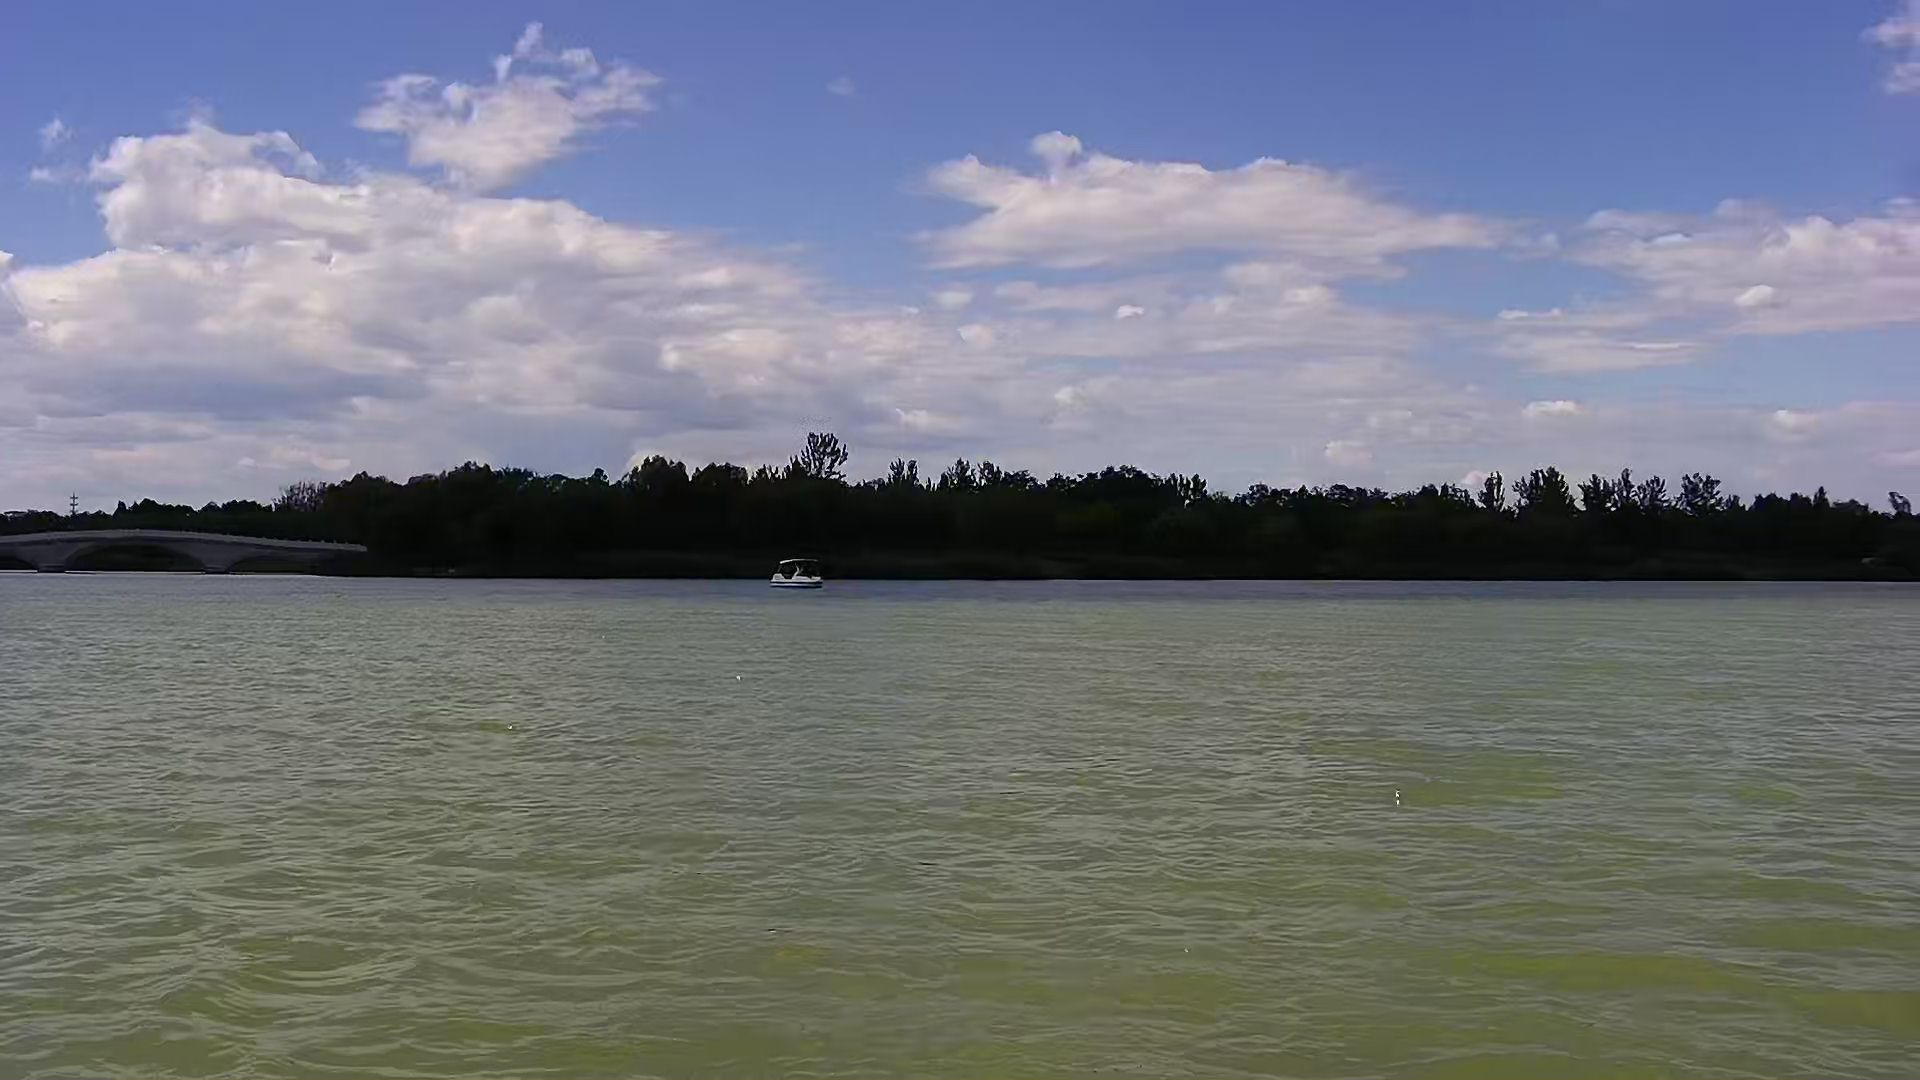boat: (766, 554, 829, 597)
bridge: (1, 516, 375, 583)
